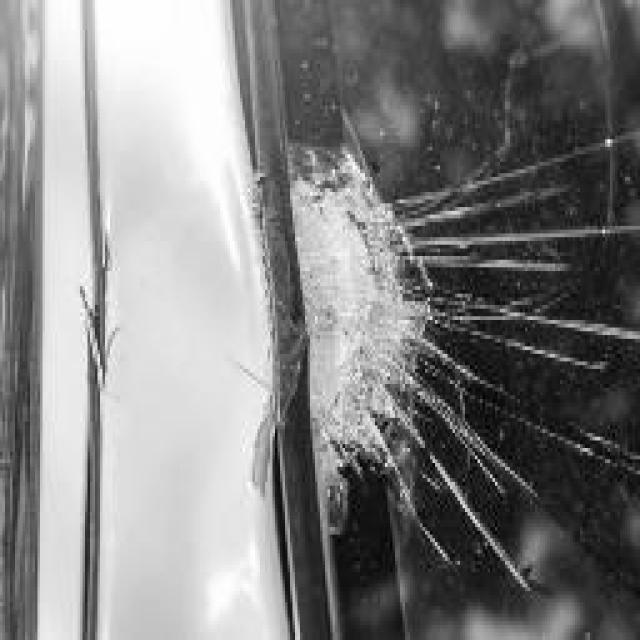Windshield: (275, 16, 640, 640)
